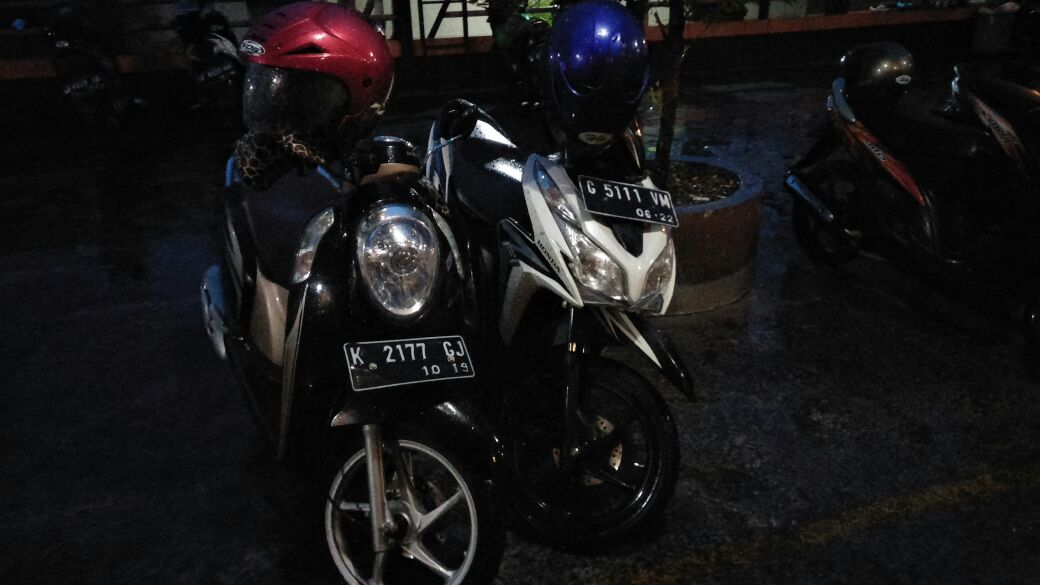plate: (342, 335, 475, 389), (577, 173, 680, 227)
